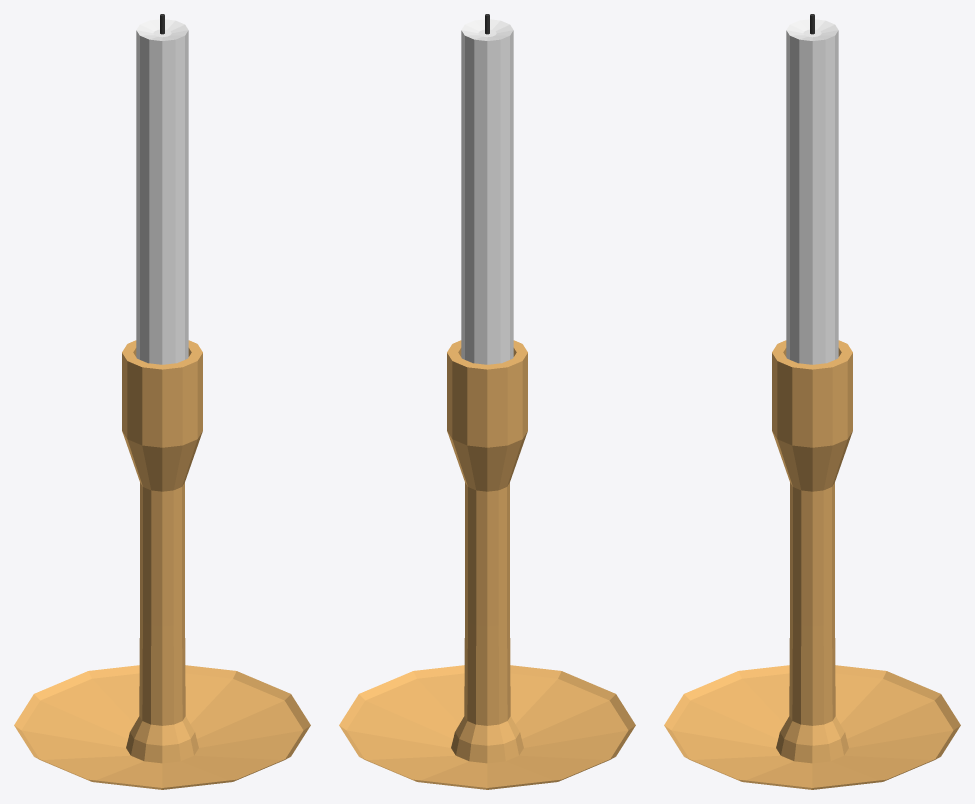
File: Candle_Stand_Large.fbx
3 views of the same model, side by side, from view 1: azimuth 30°, elevation 25°; view 2: azimuth 150°, elevation 25°; view 3: azimuth 270°, elevation 25° (orthographic).
Parts seen in each view (by area): view 1: Candle_Large; view 2: Candle_Large; view 3: Candle_Large.
Part boxes in pixels (x1,y1,x2,y2): Candle_Large: (14, 14, 310, 789); Candle_Large: (339, 14, 635, 789); Candle_Large: (664, 14, 960, 789).
Size of the model in its own units: 0.0685 by 0.1867 by 0.0685.
